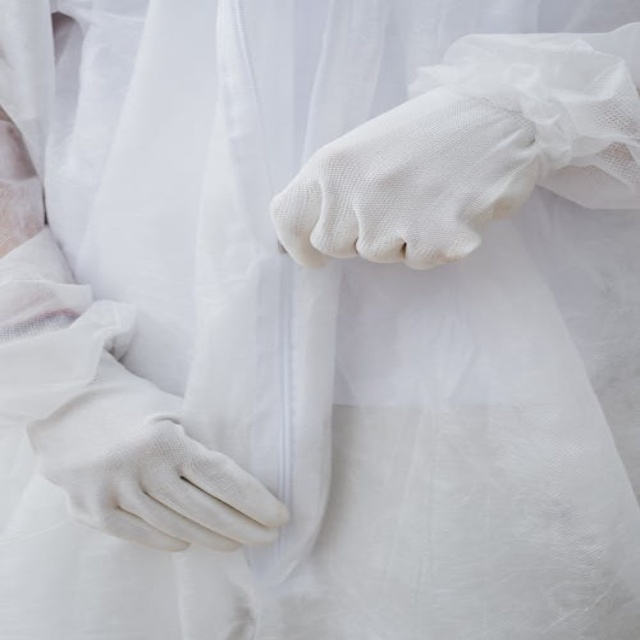Guantes: (269, 88, 549, 269), (30, 397, 289, 554)
